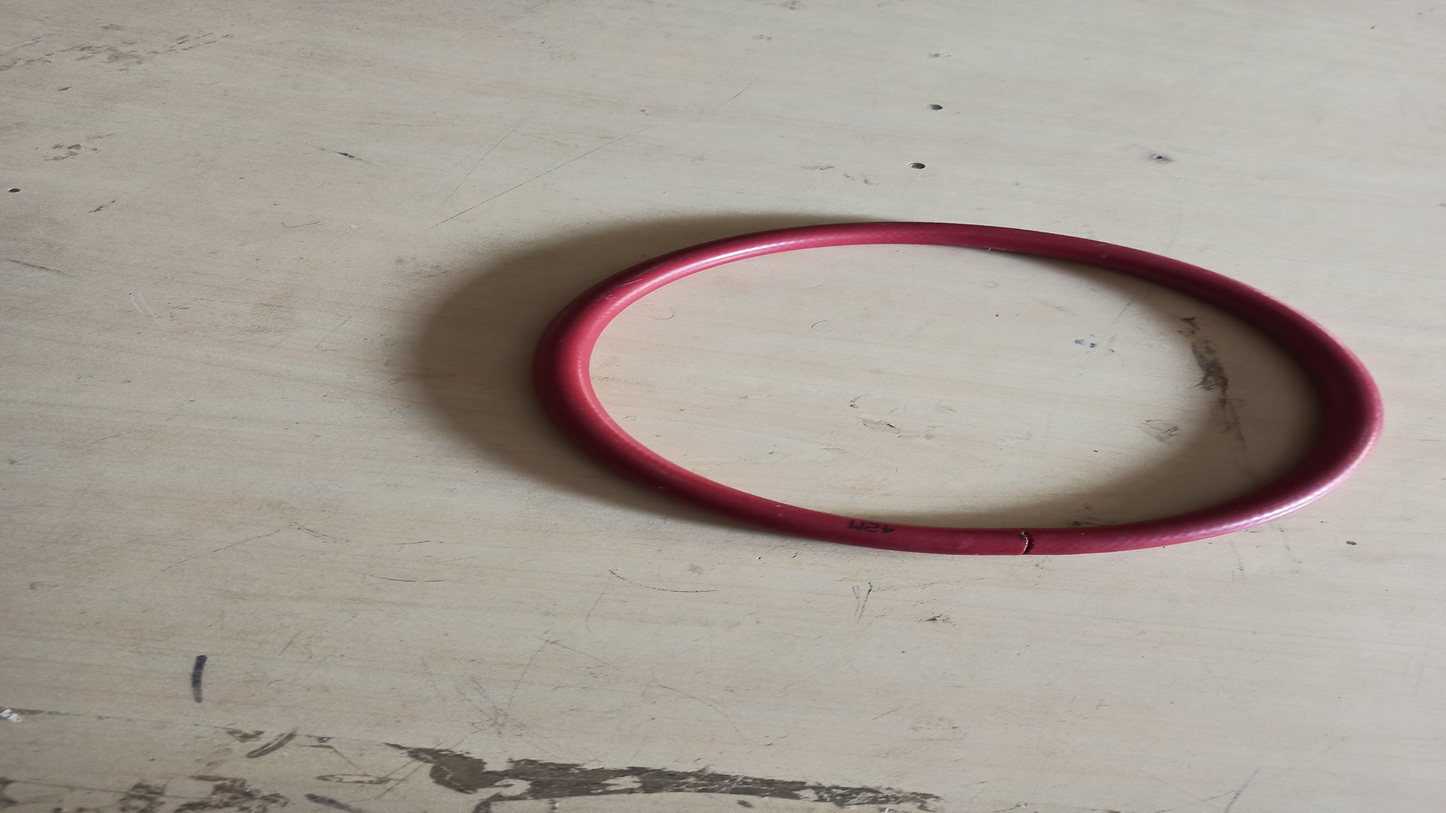Red ring: (538, 217, 1386, 565)
